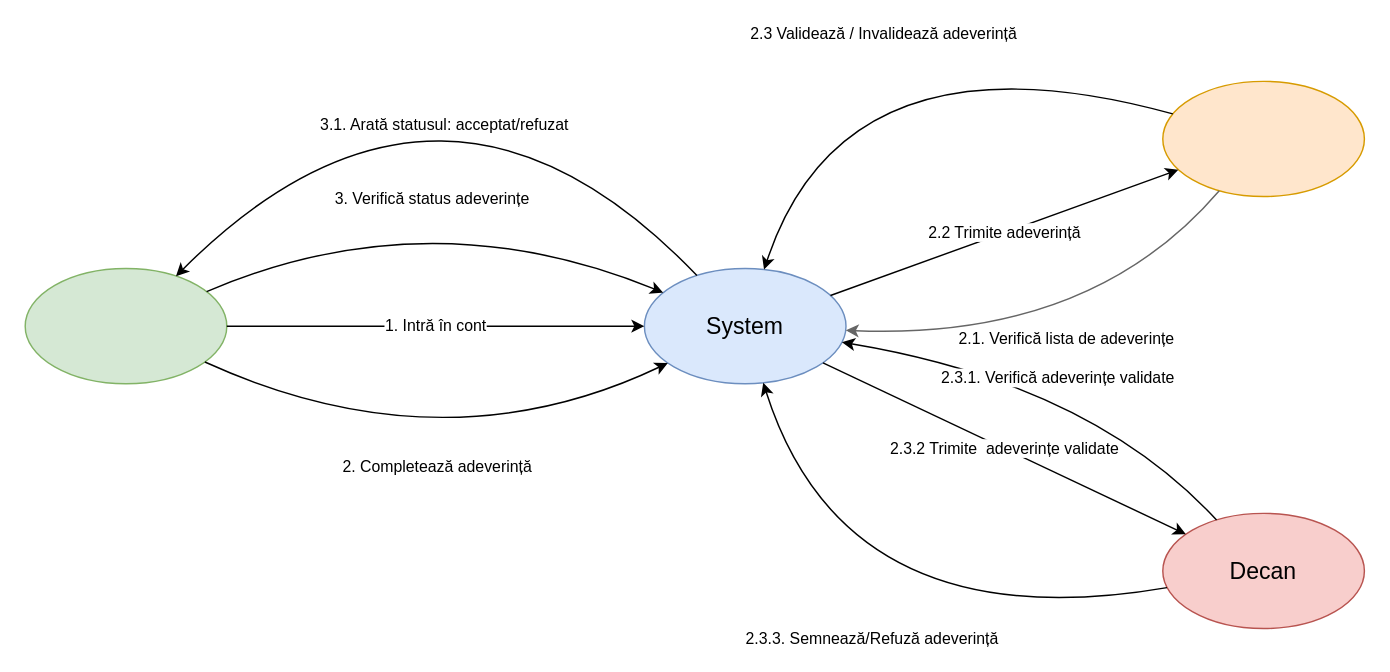
The diagram is 1390 pixels wide and 672 high, and some of its shapes have lost their labels. The shapes that lost their labels are listed below. From the top down, each one's centre as x and y in pixels, then its label:
(1262,138): Secretară De An
(125,325): Student
